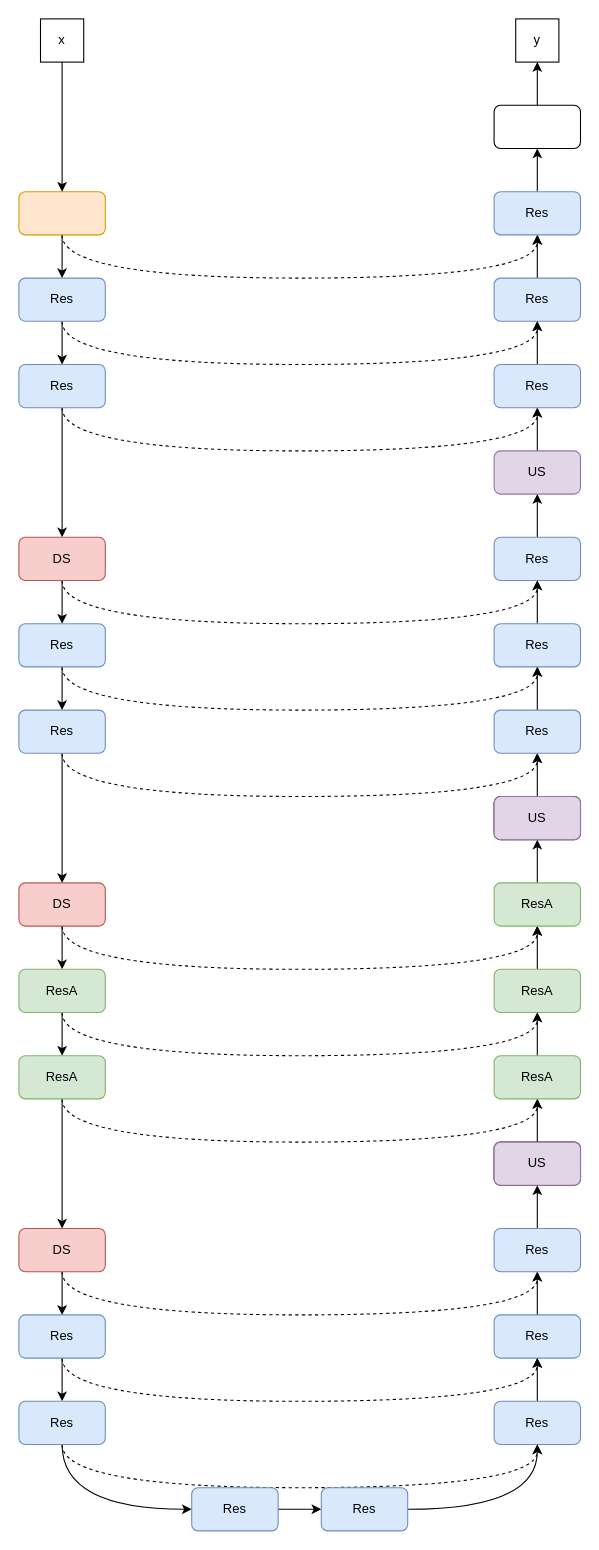
Some shapes in this 599 by 1550 pixel diagram are drawn without their labels. Each missing label, with the centre of its shape:
"conv" goes at pixel 61 213.
"Final" goes at pixel 536 126.
